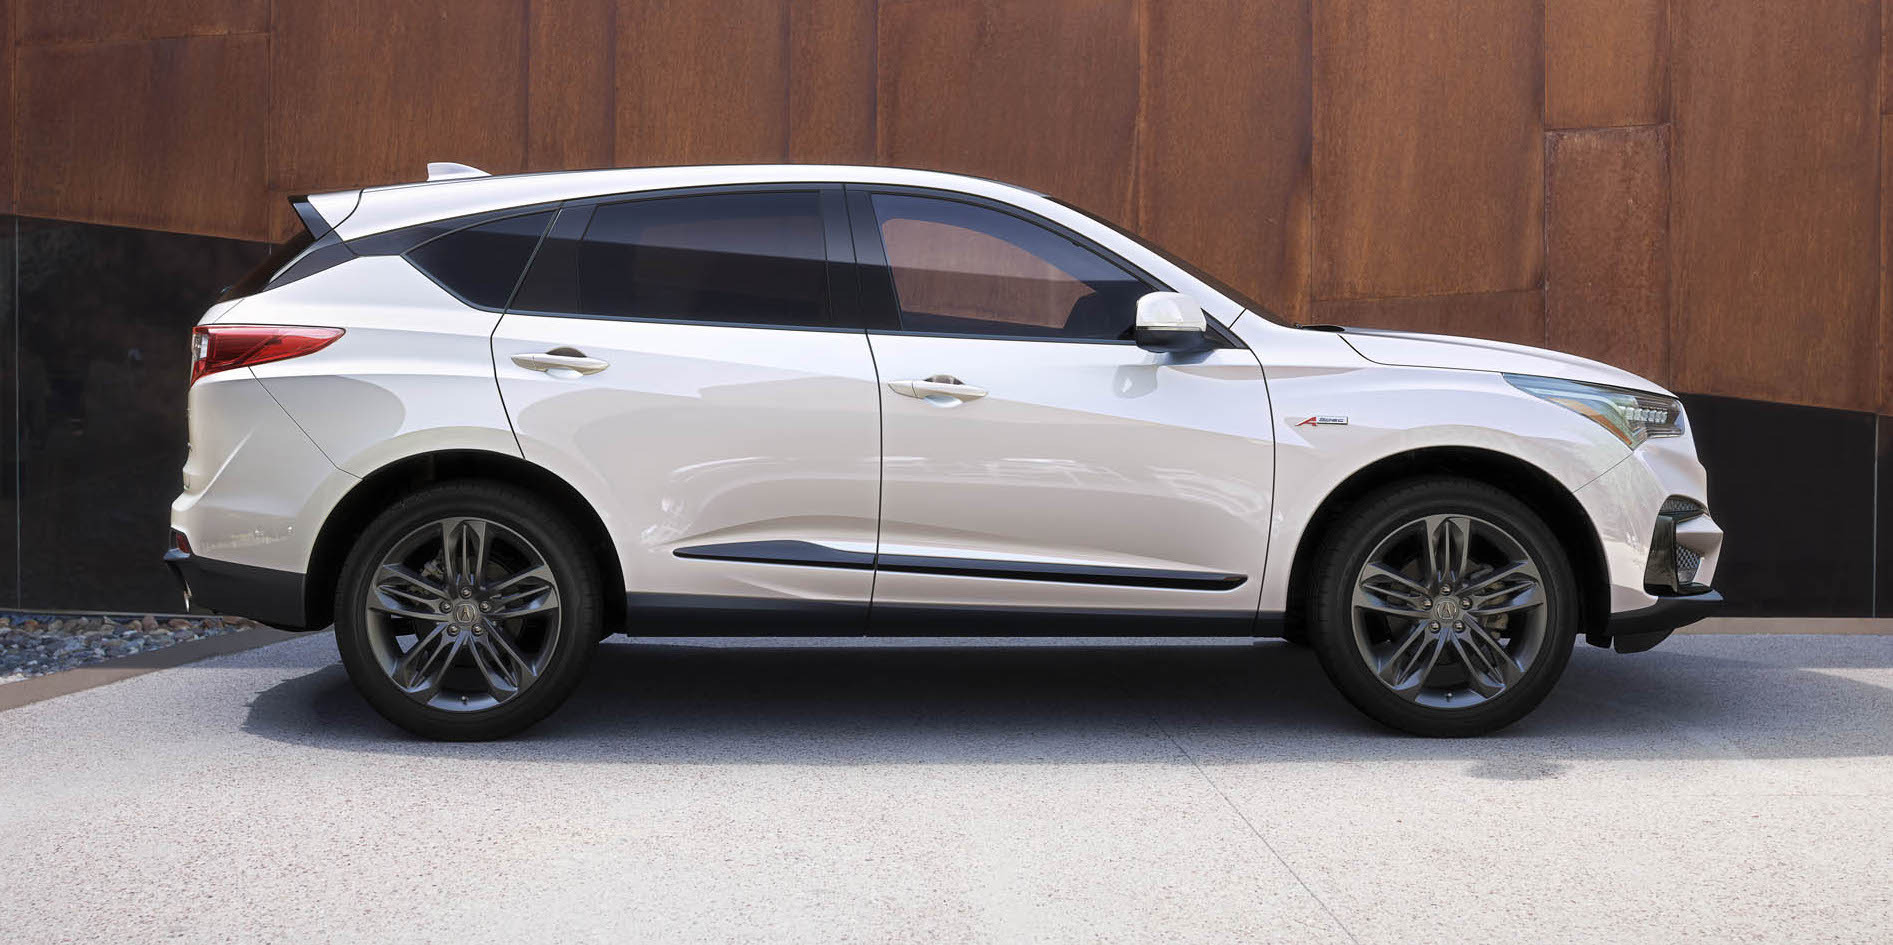mobil: (155, 145, 1730, 752)
